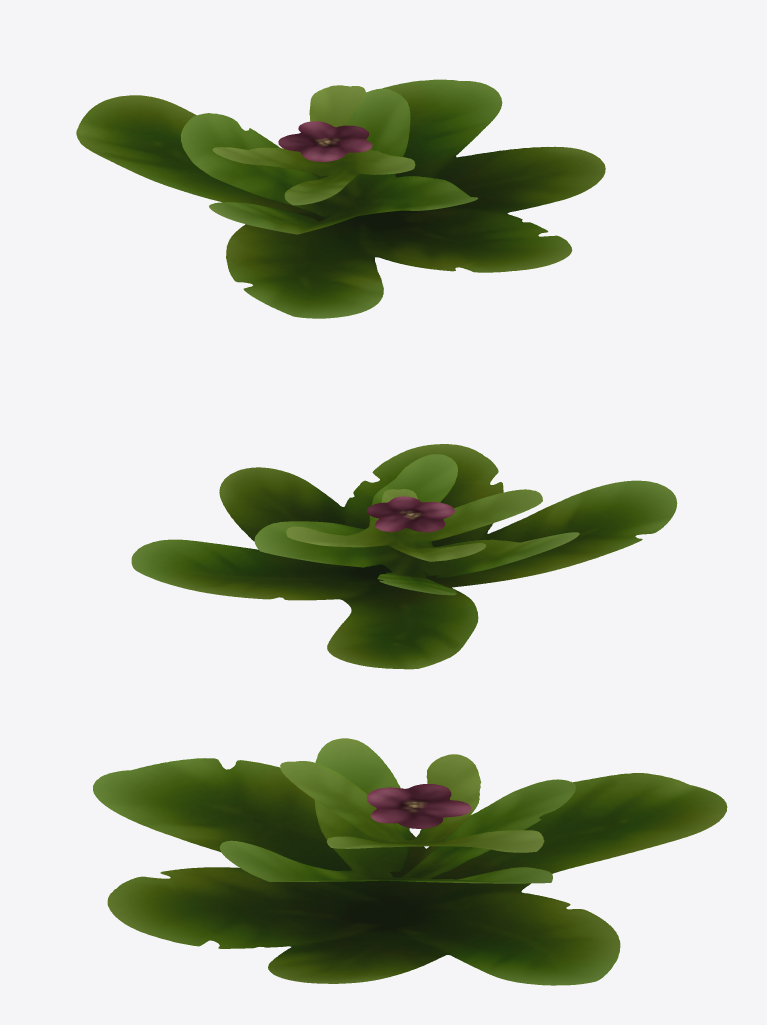
File: Funkyplant_big.fbx
The picture shows the model from 3 angles, top to bottom: view 1: azimuth 30°, elevation 25°; view 2: azimuth 150°, elevation 25°; view 3: azimuth 270°, elevation 25°; orthographic projection. The views are drawn at different scales.
Visible parts, largest first — view 1: Funkyplantbig; view 2: Funkyplantbig; view 3: Funkyplantbig.
Part boxes in pixels (left/top/right/bottom): Funkyplantbig: left=76, top=79, right=605, bottom=318; Funkyplantbig: left=131, top=444, right=677, bottom=669; Funkyplantbig: left=93, top=738, right=727, bottom=985.
Bounding box in the file's own units: 222 × 36.41 × 248.
